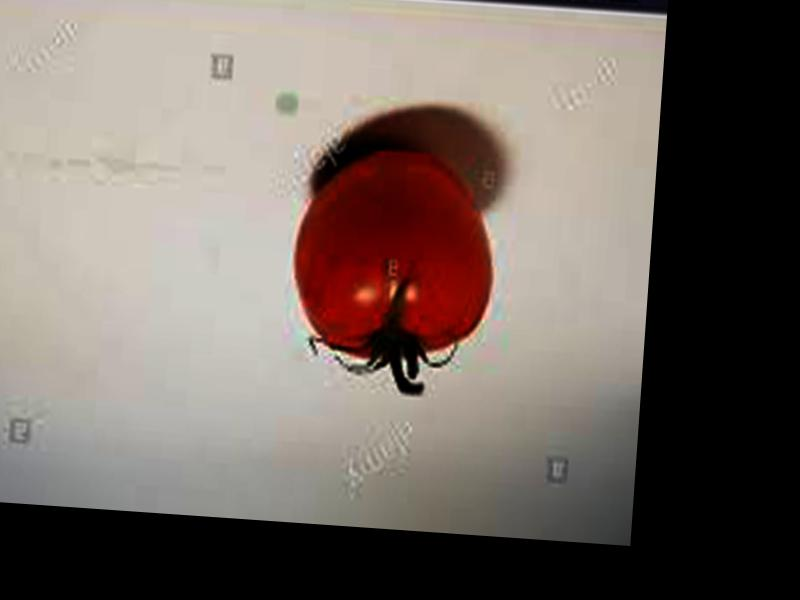Tomato: (289, 140, 498, 362)
